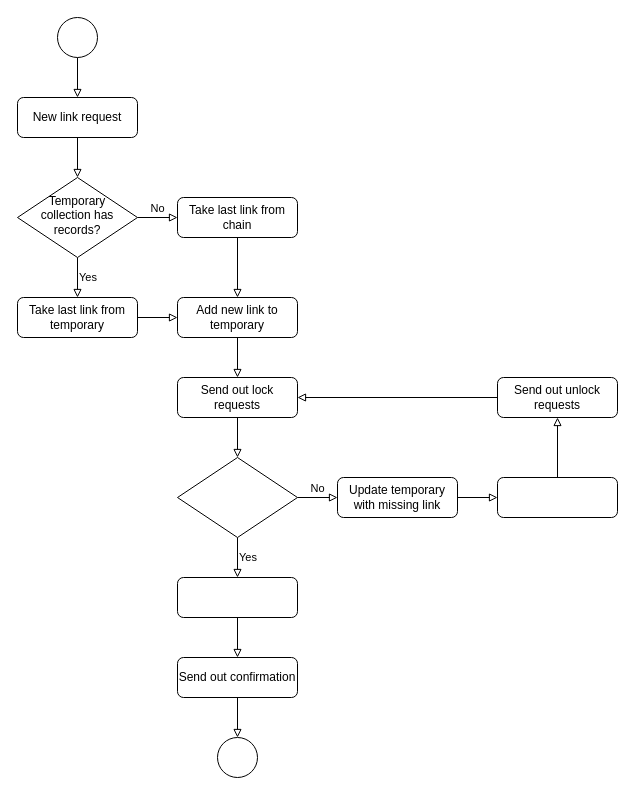
The diagram is 635 pixels wide and 795 high, and some of its shapes have lost their labels. Here are the shapes that lost their labels. From the top down, the box of each, then its label:
(56, 16, 98, 58): Start
(176, 456, 298, 538): There is more positive responses?
(496, 476, 618, 518): Update new link with new last link
(176, 576, 298, 618): Transfer confirmed records from temporary to chain
(216, 736, 258, 778): Stop
